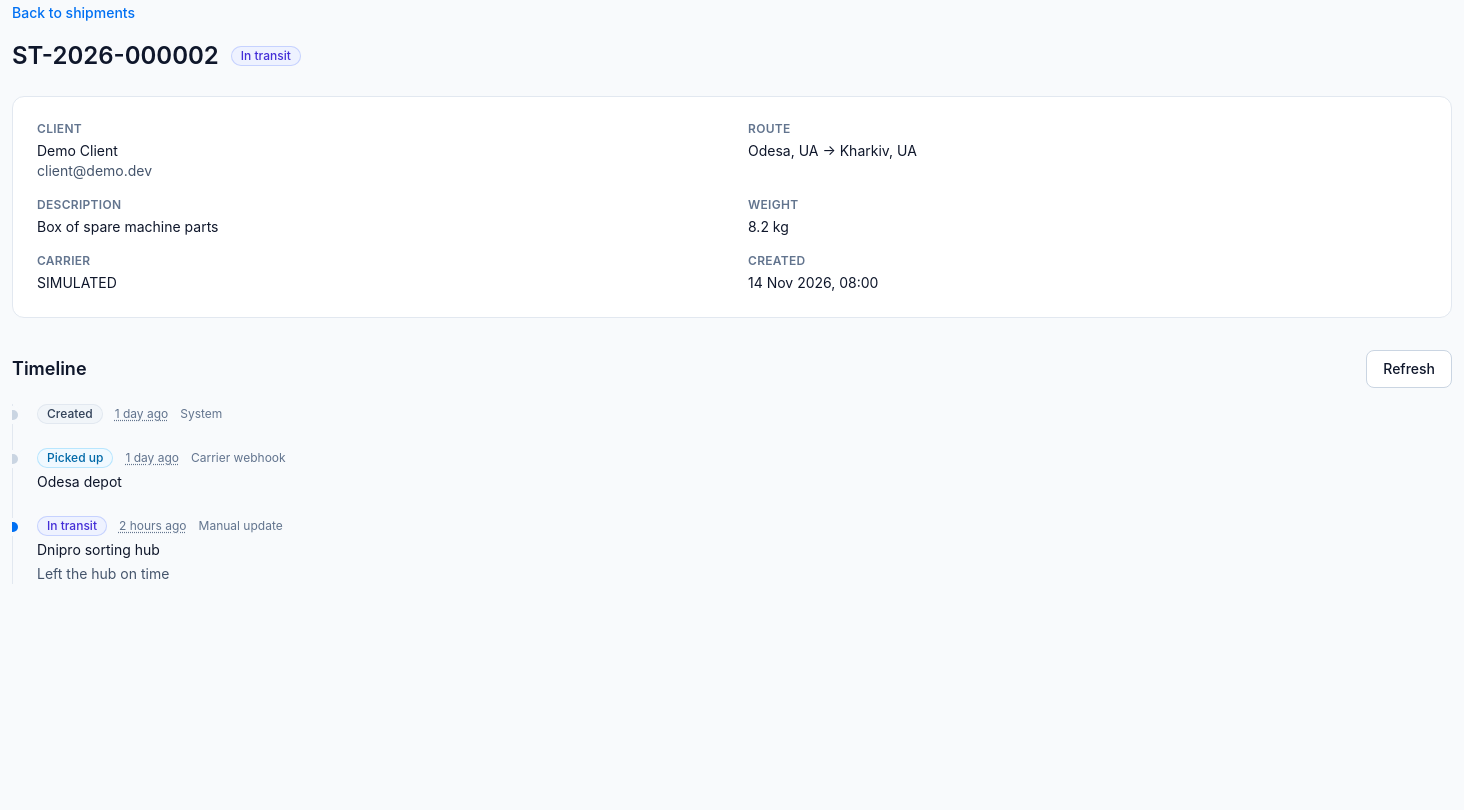
Scenario: ShipmentDetailView › disables "Refresh" while the shipment reloads
Check: the list named "Movement timeline" is shown, box [12,404,1452,584]
Click the button "Refresh": (1409, 369) [1366,350,1452,388]
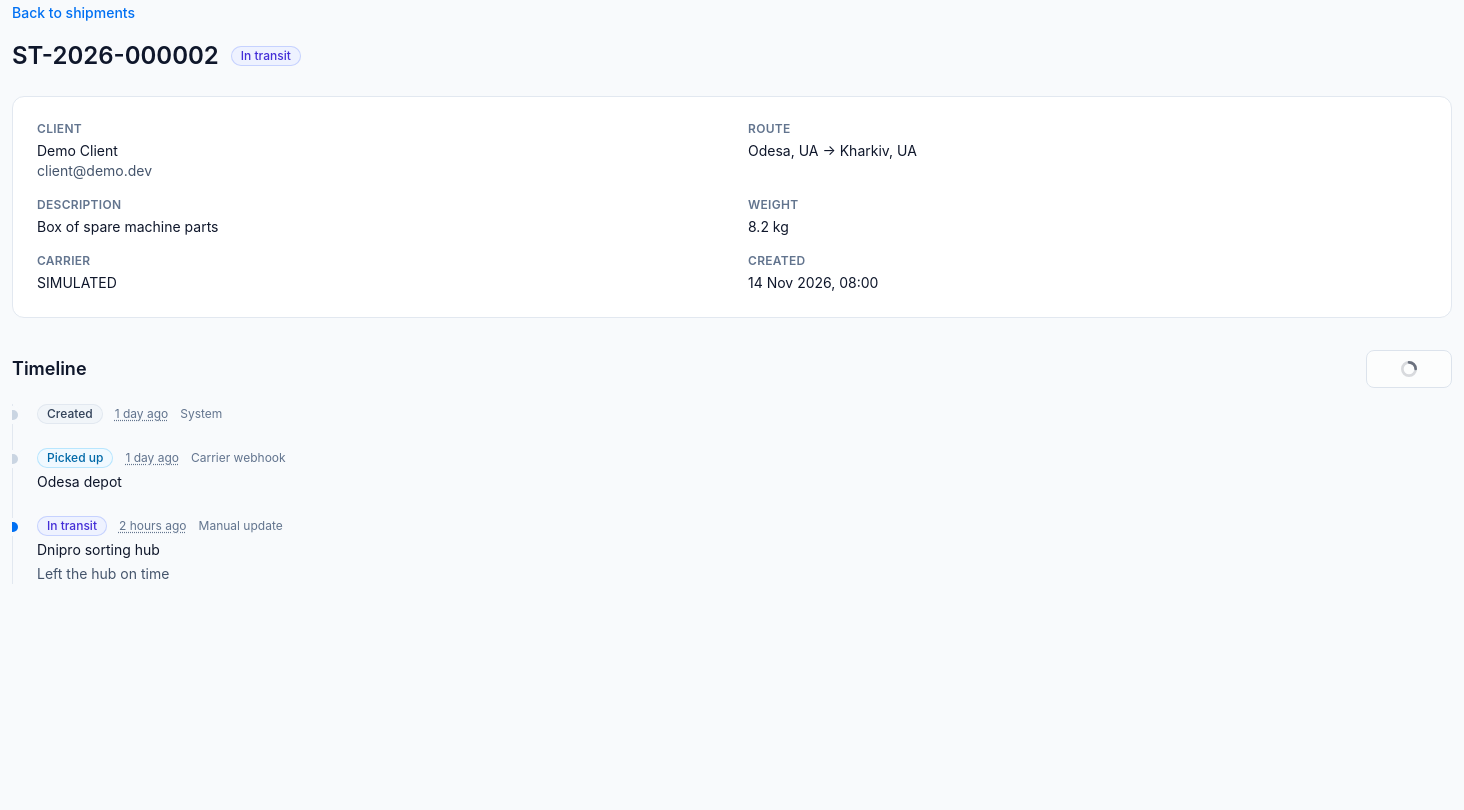
Check: the number of list items is 3, box [37,404,222,424]; [37,448,286,490]; [37,516,283,582]
Check: the button named "Refresh" is disabled
Click the button named "Refresh": (1409, 369) [1366,350,1452,388]
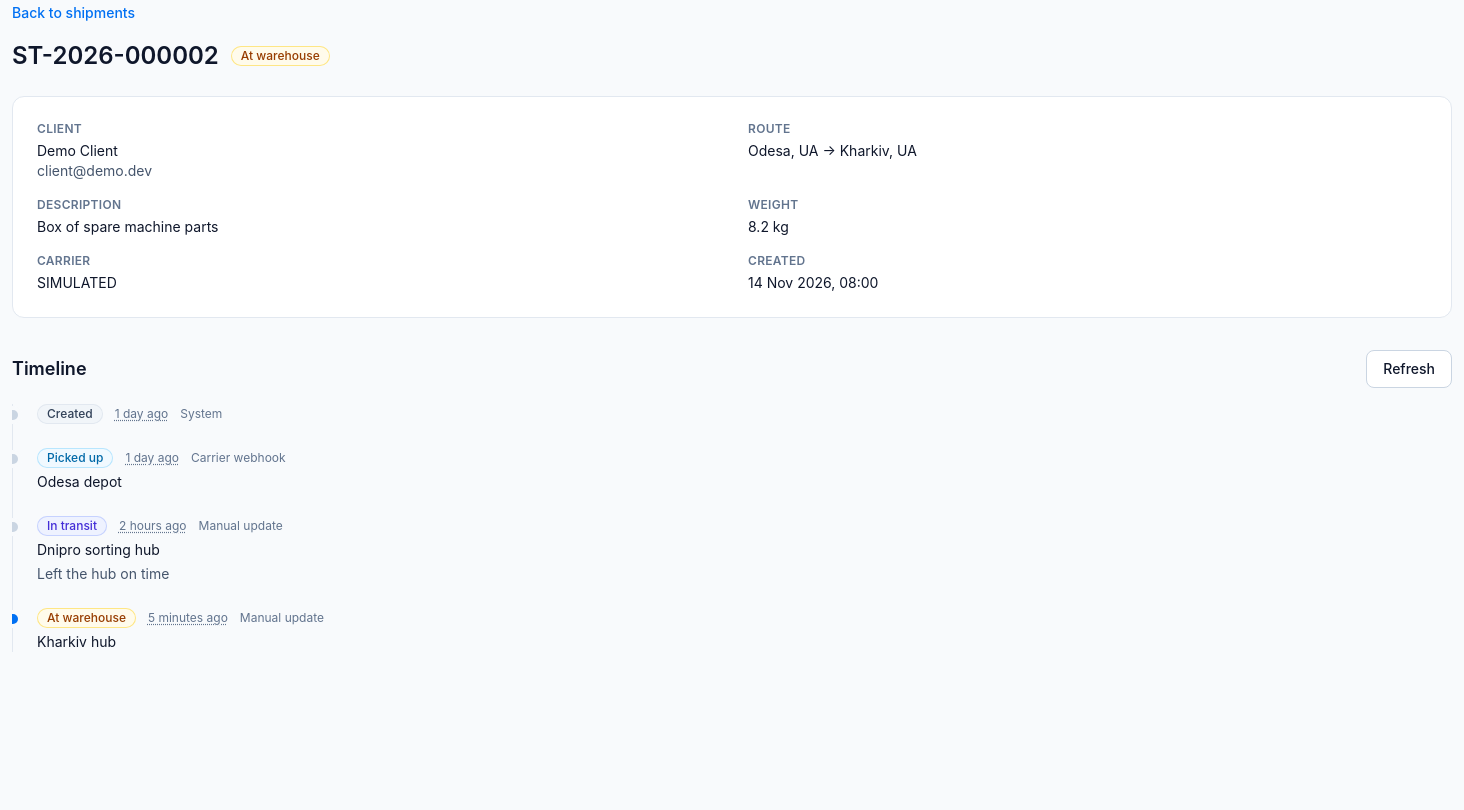
Check: the number of list items is 4, box [37,404,222,424]; [37,448,286,490]; [37,516,283,582]; [37,608,324,650]
